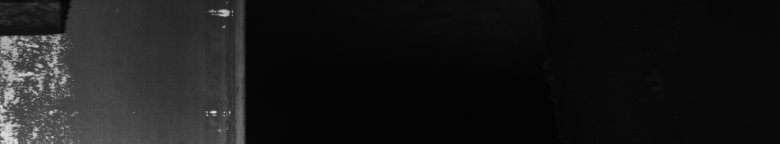kb: (4, 28, 78, 136)
